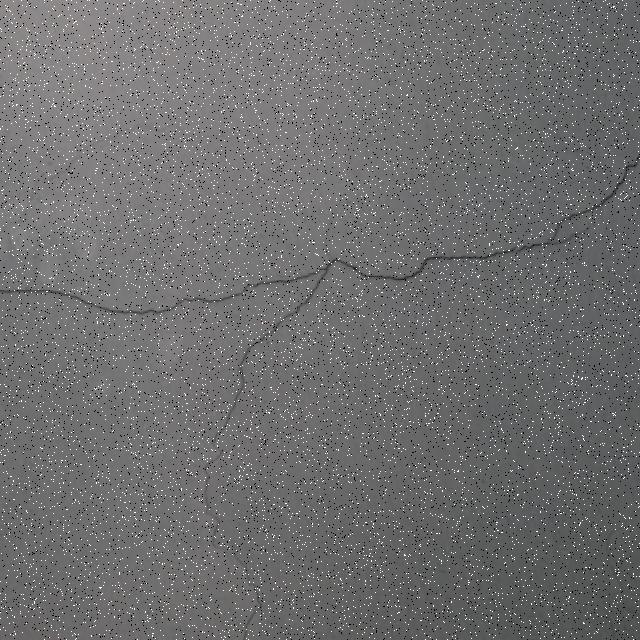minor crack: (2, 452, 638, 640), (7, 284, 206, 316), (387, 246, 467, 273), (327, 256, 407, 280)
moderate crack: (232, 566, 271, 634)
severe crack: (6, 142, 634, 320), (198, 266, 323, 494), (533, 160, 631, 241)
